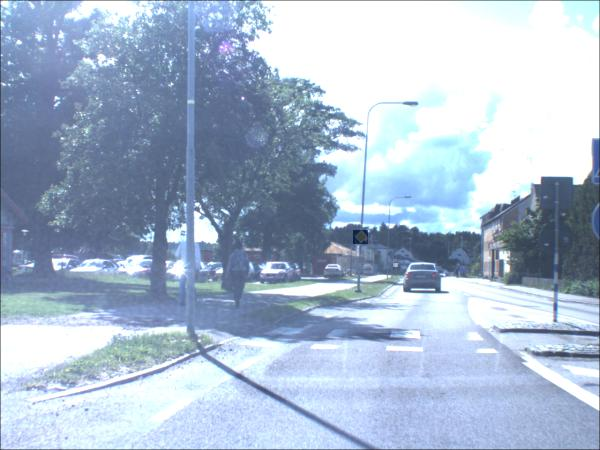NO_STOPPING_NO_STANDING: (393, 260, 398, 264)
PRIORITY_ROAD: (353, 231, 369, 246), (393, 264, 399, 269)
